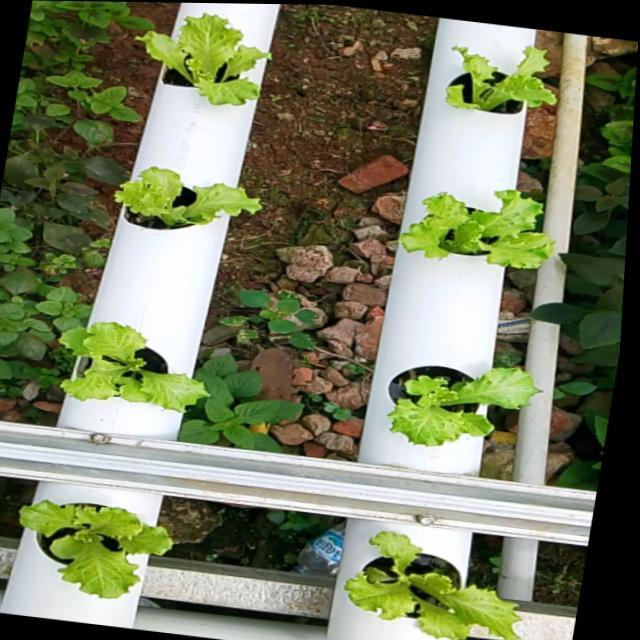Baby: (348, 529, 525, 640), (18, 485, 172, 601), (59, 323, 212, 415), (382, 369, 536, 450), (394, 193, 549, 273), (132, 19, 267, 110), (110, 171, 257, 234), (441, 52, 551, 119)
